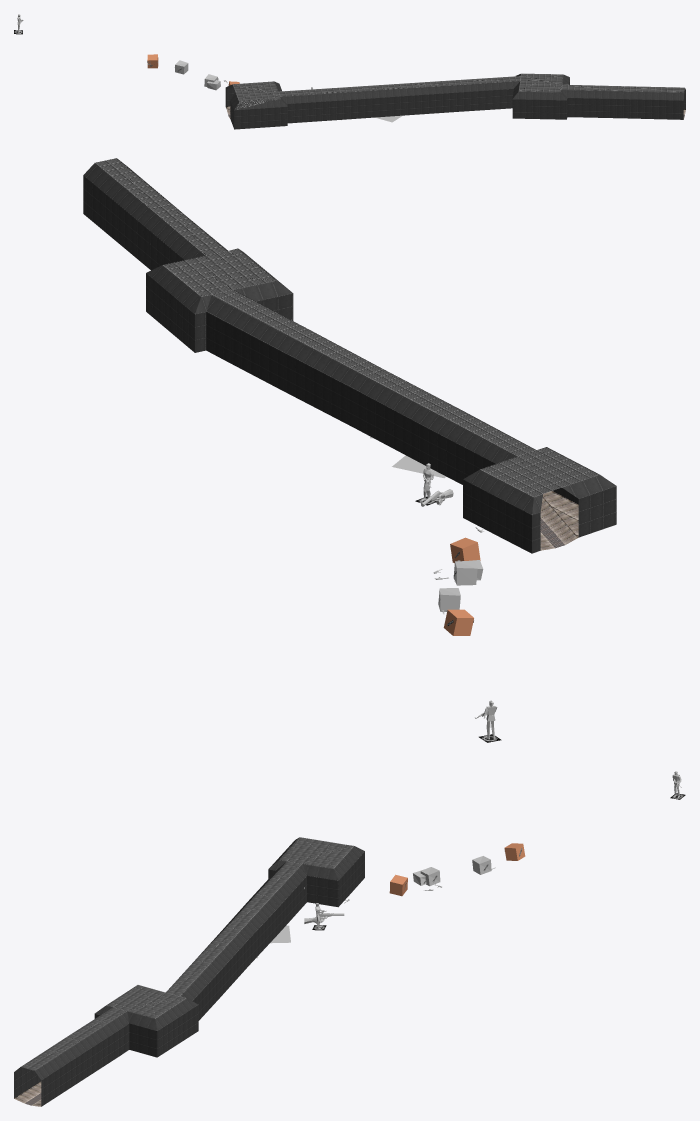
Rendered from dam12.obj.
3 renders of one model, top to bottom at view 1: azimuth 30°, elevation 25°; view 2: azimuth 150°, elevation 25°; view 3: azimuth 270°, elevation 25°, orthographic. The views are drawn at different scales.
Visible parts, largest first — view 1: 115_61410439_c.bmp, 177_61410439_c.bmp, 125_61410439_c.bmp, 181_1BE3C87_c.bmp, 119_1BE3C87_c.bmp, 128_1BE3C87_c.bmp, 178_61410439_c.bmp, 116_61410439_c.bmp; view 2: 115_61410439_c.bmp, 177_61410439_c.bmp, 125_61410439_c.bmp, 181_1BE3C87_c.bmp, 119_1BE3C87_c.bmp, 128_1BE3C87_c.bmp, 117_2667E92D_c.bmp; view 3: 177_61410439_c.bmp, 115_61410439_c.bmp, 181_1BE3C87_c.bmp, 119_1BE3C87_c.bmp, 125_61410439_c.bmp, 128_1BE3C87_c.bmp.
Part boxes in pixels (left/top/right/bottom): 115_61410439_c.bmp: left=225, top=82, right=400, bottom=129; 177_61410439_c.bmp: left=512, top=74, right=685, bottom=119; 125_61410439_c.bmp: left=400, top=81, right=519, bottom=115; 181_1BE3C87_c.bmp: left=519, top=73, right=684, bottom=92; 119_1BE3C87_c.bmp: left=232, top=81, right=399, bottom=101; 128_1BE3C87_c.bmp: left=399, top=76, right=520, bottom=88; 178_61410439_c.bmp: left=513, top=91, right=566, bottom=100; 116_61410439_c.bmp: left=234, top=99, right=287, bottom=110; 115_61410439_c.bmp: left=354, top=376, right=616, bottom=553; 177_61410439_c.bmp: left=83, top=161, right=293, bottom=352; 125_61410439_c.bmp: left=206, top=295, right=364, bottom=427; 181_1BE3C87_c.bmp: left=95, top=158, right=276, bottom=296; 119_1BE3C87_c.bmp: left=365, top=370, right=599, bottom=496; 128_1BE3C87_c.bmp: left=212, top=290, right=384, bottom=375; 117_2667E92D_c.bmp: left=540, top=491, right=578, bottom=550; 177_61410439_c.bmp: left=14, top=998, right=198, bottom=1106; 115_61410439_c.bmp: left=220, top=846, right=364, bottom=964; 181_1BE3C87_c.bmp: left=21, top=985, right=185, bottom=1070; 119_1BE3C87_c.bmp: left=227, top=837, right=353, bottom=929; 125_61410439_c.bmp: left=166, top=928, right=249, bottom=1020; 128_1BE3C87_c.bmp: left=166, top=927, right=240, bottom=995.
Size of the model in its own units: 0.8967 by 0.0691 by 0.8634.
